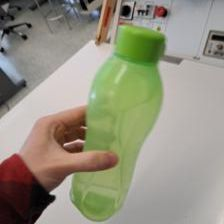bottle: (65, 19, 169, 220)
